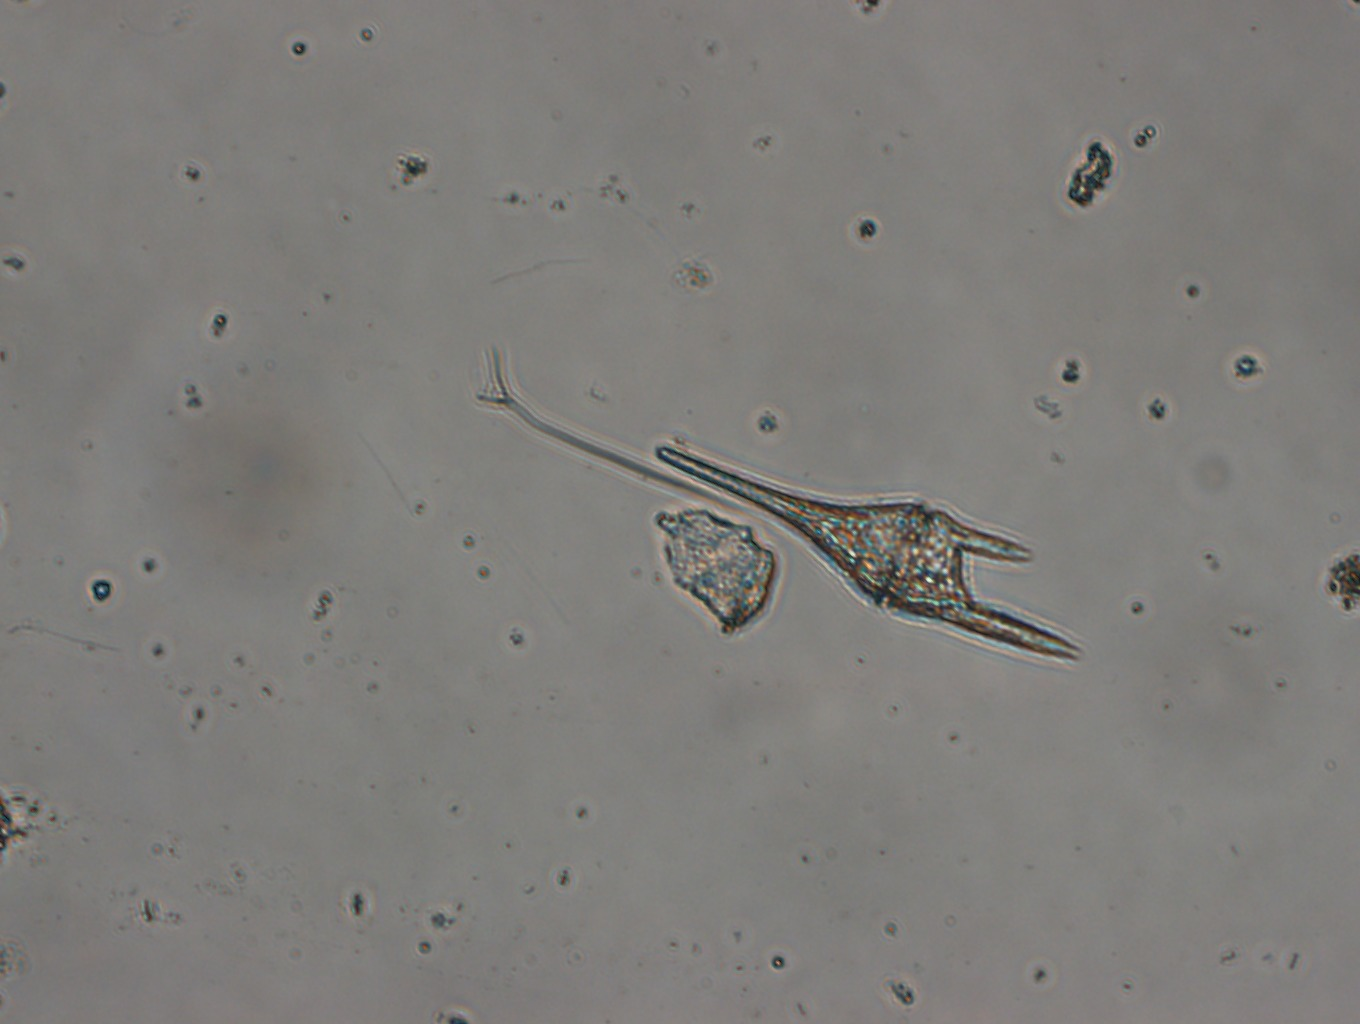ceratium furca: (659, 437, 1100, 665)
